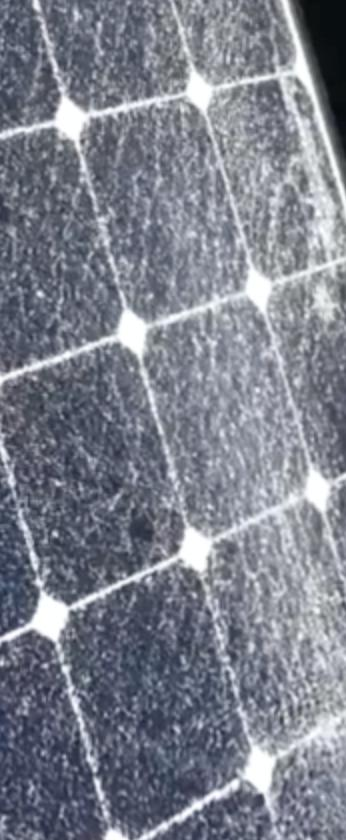Crack: (0, 0, 345, 486), (7, 469, 340, 839)
